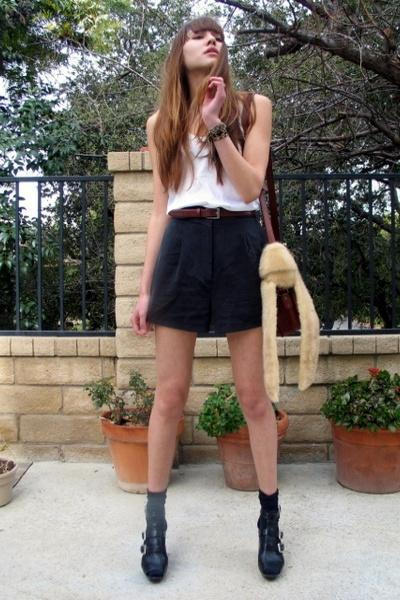shirt: (161, 128, 260, 213)
shoe: (141, 487, 283, 583)
skirt: (145, 206, 268, 337)
